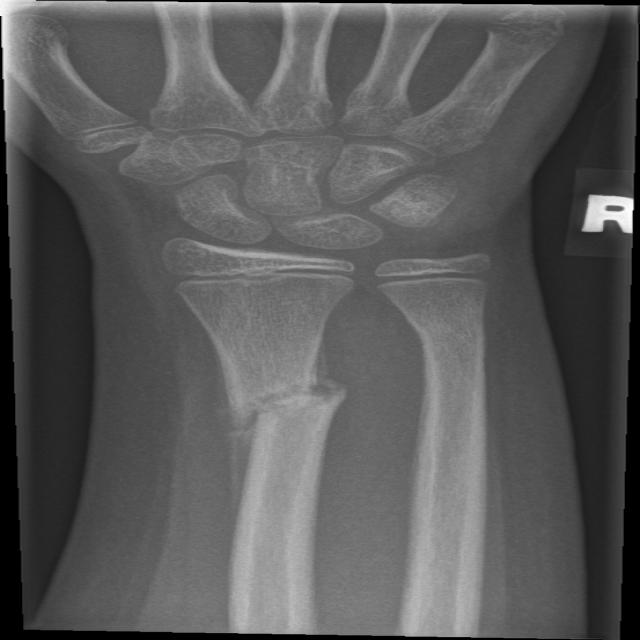radius fracture: (183, 319, 380, 548)
